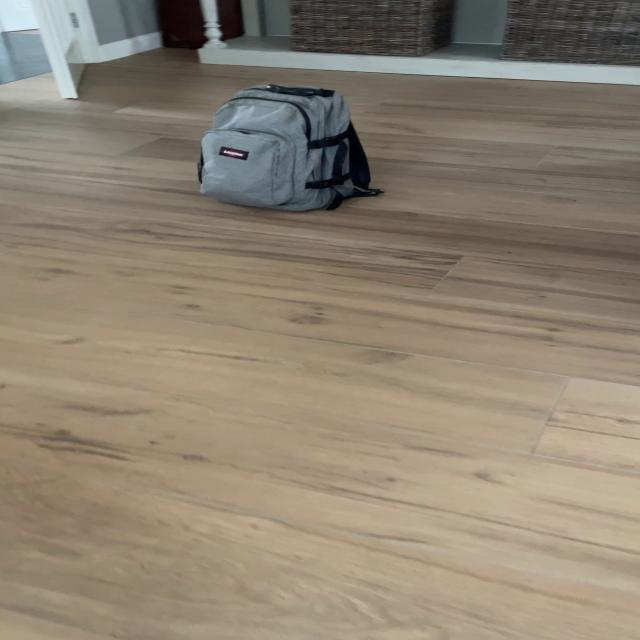backpack: (185, 79, 380, 215)
